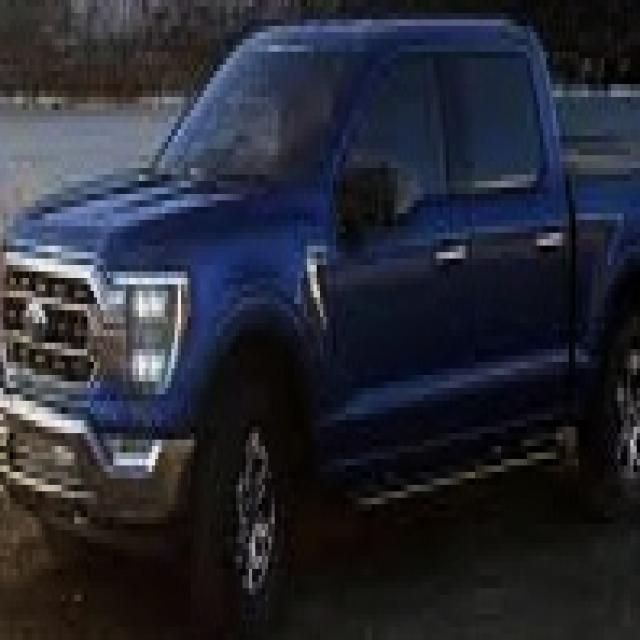blue: (1, 0, 632, 640)
